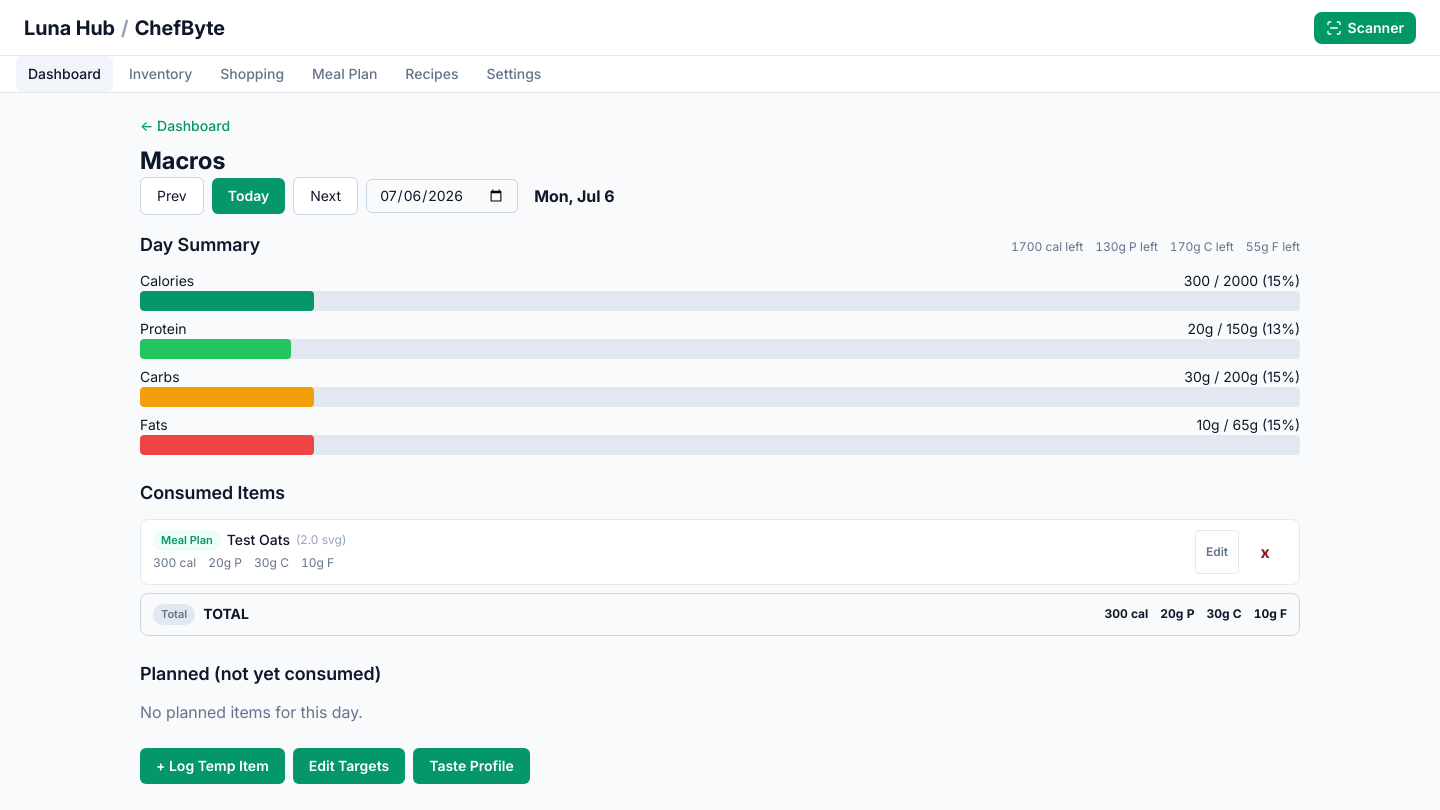
Test: MacroPage deleteMutation/editQtyMutation — onError rollback (real component) › deleteMutation: optimistically drops macros.consumed (bars + remaining) before refetch
This screenshot has width=1440, height=810.
Expected: the element with test id "progress-calories" shows "300 / 2000", [140, 271, 1300, 311]
Expected: the text with test id "remaining-calories" shows "1700", [1011, 239, 1042, 254]
# Delete (confirm not required on MacroPage delete) → optimistic onMutate.
Click the button "x": (1265, 552) [1243, 530, 1287, 574]
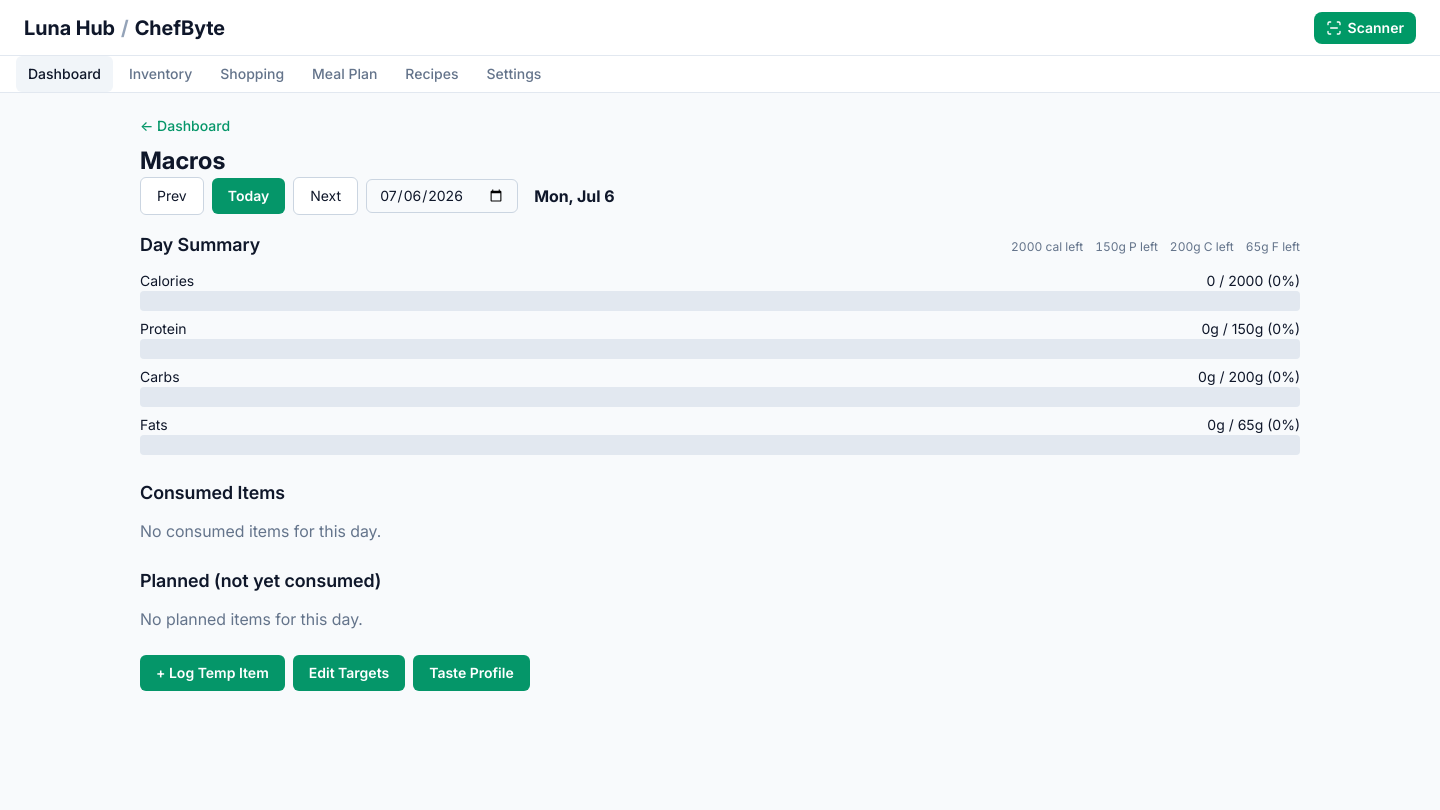
Expected: the element with test id "progress-calories" shows "0 / 2000", [140, 271, 1300, 311]
Now the text with test id "remaining-calories" shows "2000", box [1011, 239, 1042, 254]
